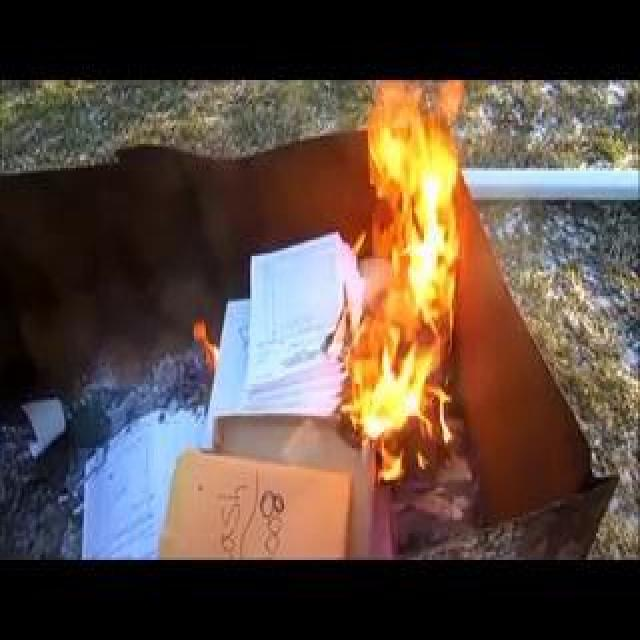Fire: (146, 276, 392, 398)
